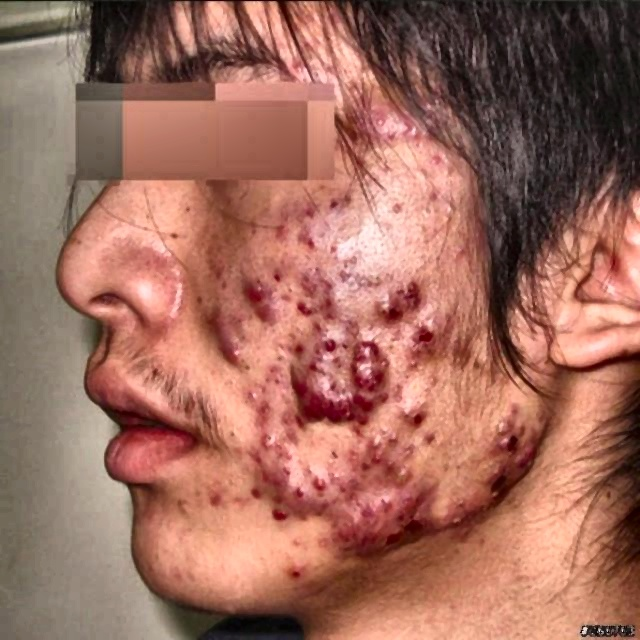nodule: (443, 483, 478, 539), (339, 363, 388, 397), (405, 322, 440, 365), (473, 428, 512, 466), (255, 354, 287, 399), (256, 296, 293, 334), (354, 105, 393, 141), (330, 512, 359, 553), (256, 421, 284, 463), (364, 290, 394, 329), (262, 462, 292, 501), (381, 453, 412, 489), (272, 198, 308, 228), (306, 382, 336, 418), (288, 358, 316, 394), (296, 222, 323, 259), (393, 280, 422, 314), (297, 464, 324, 499), (341, 345, 387, 365), (448, 240, 478, 270), (316, 278, 343, 310), (219, 326, 241, 365), (244, 276, 274, 304), (328, 403, 358, 431), (266, 494, 294, 524), (360, 425, 386, 455), (329, 464, 352, 497), (358, 499, 384, 528), (317, 329, 343, 358), (282, 557, 312, 582), (347, 447, 372, 476), (294, 267, 318, 296), (482, 476, 506, 505), (249, 381, 270, 414), (486, 422, 526, 439), (209, 302, 231, 332), (246, 479, 270, 506), (400, 491, 421, 521), (425, 148, 450, 173), (421, 426, 446, 451), (228, 488, 251, 514), (312, 525, 334, 552), (310, 498, 335, 521), (418, 86, 444, 108), (516, 438, 537, 465), (501, 398, 525, 421), (295, 296, 317, 320), (289, 530, 313, 552), (203, 488, 228, 508), (213, 266, 233, 288), (422, 118, 438, 145), (173, 497, 197, 515), (533, 406, 554, 426), (219, 597, 240, 617), (381, 490, 398, 514), (426, 183, 444, 204), (394, 116, 410, 138), (387, 198, 405, 217), (161, 519, 180, 535), (172, 567, 188, 586), (142, 505, 158, 522), (351, 315, 364, 335), (410, 119, 422, 137), (404, 412, 416, 427), (387, 129, 395, 142)
